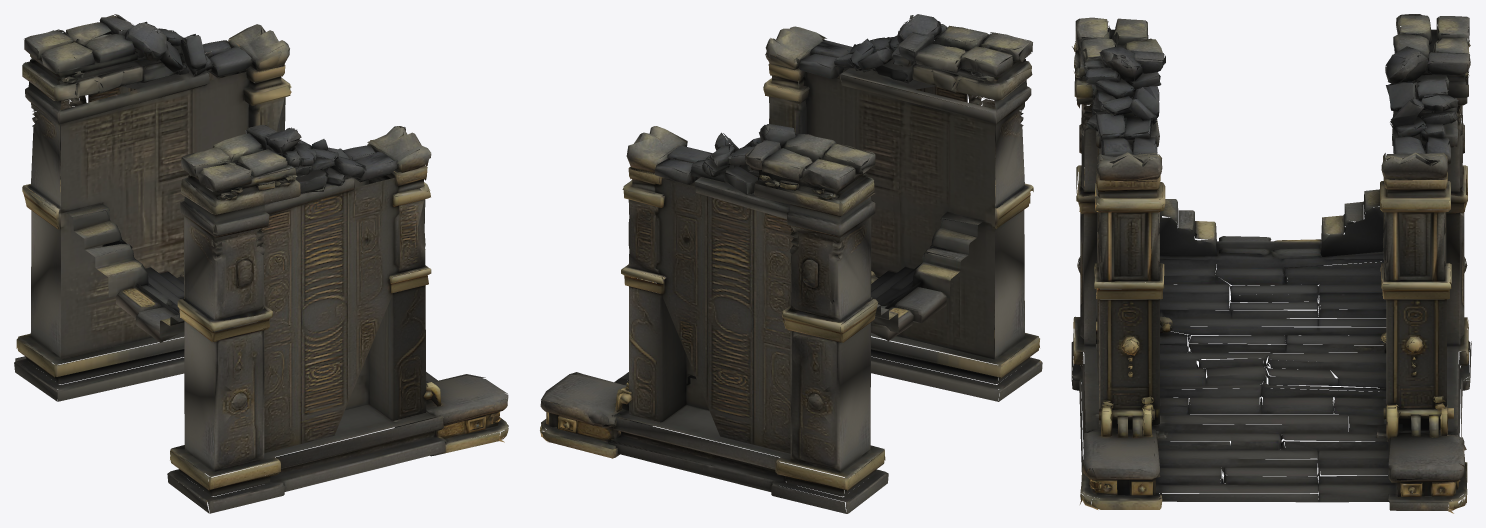
Rendered from ch8_grand_collapsed_stairway_LOD1.glb.
The picture shows the model from 3 angles, left to right: view 1: azimuth 30°, elevation 25°; view 2: azimuth 150°, elevation 25°; view 3: azimuth 270°, elevation 25°; orthographic projection. The views are drawn at different scales.
Parts seen in each view (by area): view 1: tripo_node_536b5fd1-2f6e-41d4-aba5-11aede7290c5; view 2: tripo_node_536b5fd1-2f6e-41d4-aba5-11aede7290c5; view 3: tripo_node_536b5fd1-2f6e-41d4-aba5-11aede7290c5.
Boxes of the visible parts, <box> form: tripo_node_536b5fd1-2f6e-41d4-aba5-11aede7290c5: <box>14,14,508,513</box>; tripo_node_536b5fd1-2f6e-41d4-aba5-11aede7290c5: <box>540,14,1042,513</box>; tripo_node_536b5fd1-2f6e-41d4-aba5-11aede7290c5: <box>1071,14,1471,513</box>.
Bounding box in the file's own units: 0.9374 × 0.985 × 1.
1 material, 1 textured.
